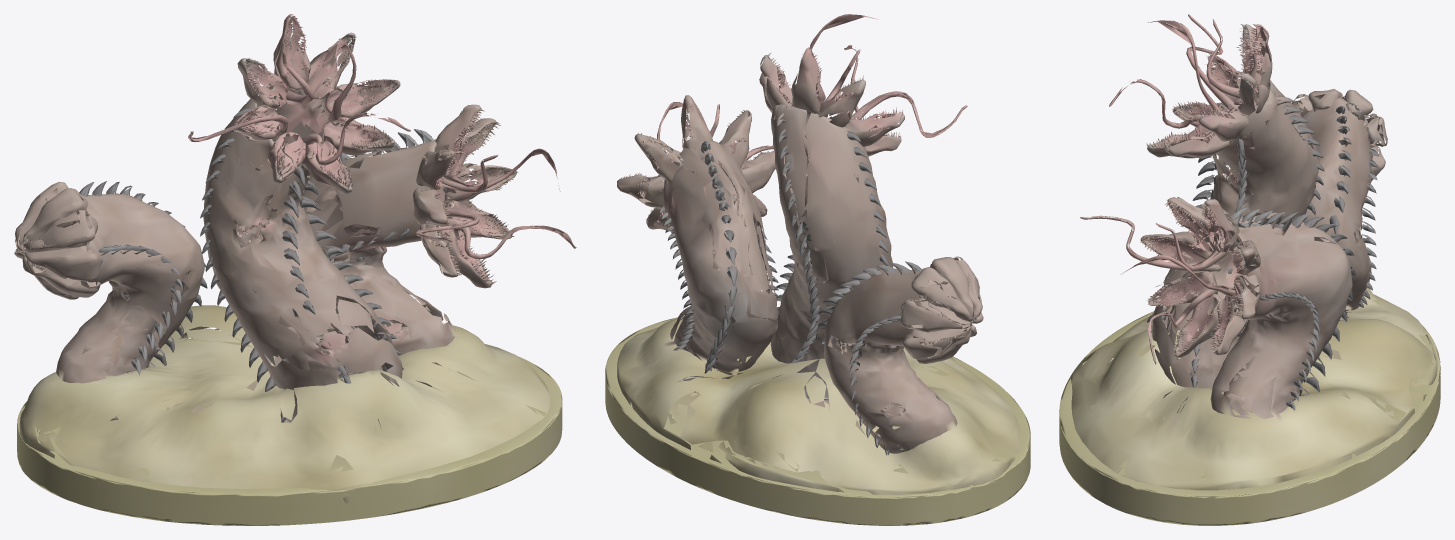
The model's file is wormC.glb.
3 views of the same model, side by side, from view 1: azimuth 30°, elevation 25°; view 2: azimuth 150°, elevation 25°; view 3: azimuth 270°, elevation 25° (orthographic). The views are drawn at different scales.
Parts seen in each view (by area): view 1: Object_3, Object_4, Object_2, Object_5, Object_6; view 2: Object_3, Object_2, Object_4, Object_5, Object_6; view 3: Object_3, Object_2, Object_4, Object_5, Object_6.
Part boxes in pixels (left/top/right/bottom): Object_3: left=14, top=14, right=576, bottom=503; Object_4: left=15, top=16, right=518, bottom=483; Object_2: left=17, top=334, right=562, bottom=525; Object_5: left=18, top=20, right=560, bottom=473; Object_6: left=22, top=15, right=566, bottom=474; Object_3: left=617, top=45, right=1019, bottom=497; Object_2: left=605, top=316, right=1030, bottom=525; Object_4: left=619, top=14, right=1021, bottom=495; Object_5: left=617, top=18, right=973, bottom=485; Object_6: left=626, top=14, right=1016, bottom=486; Object_3: left=1070, top=14, right=1434, bottom=496; Object_2: left=1059, top=299, right=1440, bottom=525; Object_4: left=1080, top=20, right=1437, bottom=491; Object_5: left=1083, top=19, right=1421, bottom=473; Object_6: left=1083, top=17, right=1421, bottom=481.
Bounding box in the file's own units: 10.15 × 8.88 × 7.6.
